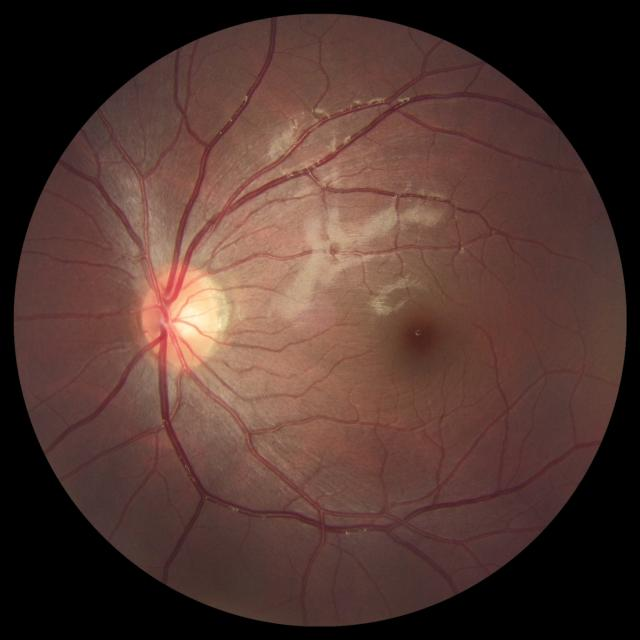OC: (160, 296, 200, 338)
OD: (140, 266, 222, 365)
